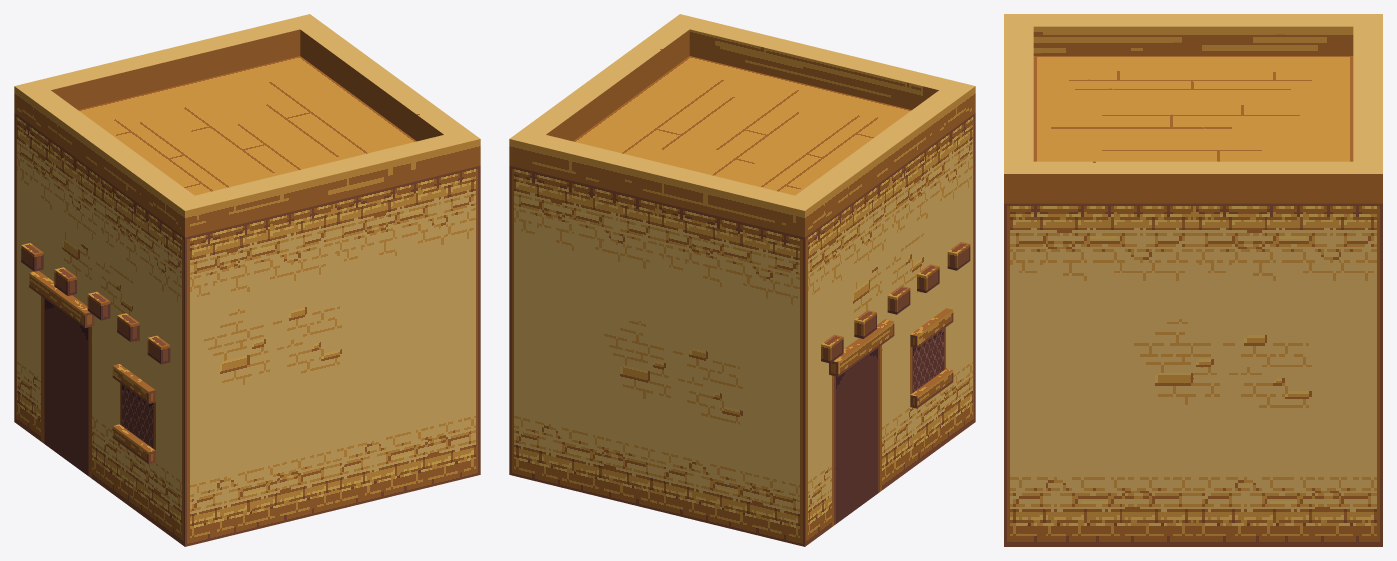
File: house.gltf
The picture shows the model from 3 angles, left to right: view 1: azimuth 30°, elevation 25°; view 2: azimuth 150°, elevation 25°; view 3: azimuth 270°, elevation 25°; orthographic projection. The views are drawn at different scales.
Visible parts, largest first — view 1: cube (×8); view 2: cube (×8); view 3: cube (×5).
Part boxes in pixels (box(x1,y1,x2,y2)): cube (×8): box(14, 14, 480, 546); cube (×8): box(509, 14, 975, 546); cube (×5): box(1004, 14, 1382, 546).
Size of the model in its own units: 8.25 by 8.69 by 8.
Materials: 1 (1 with a texture image).
